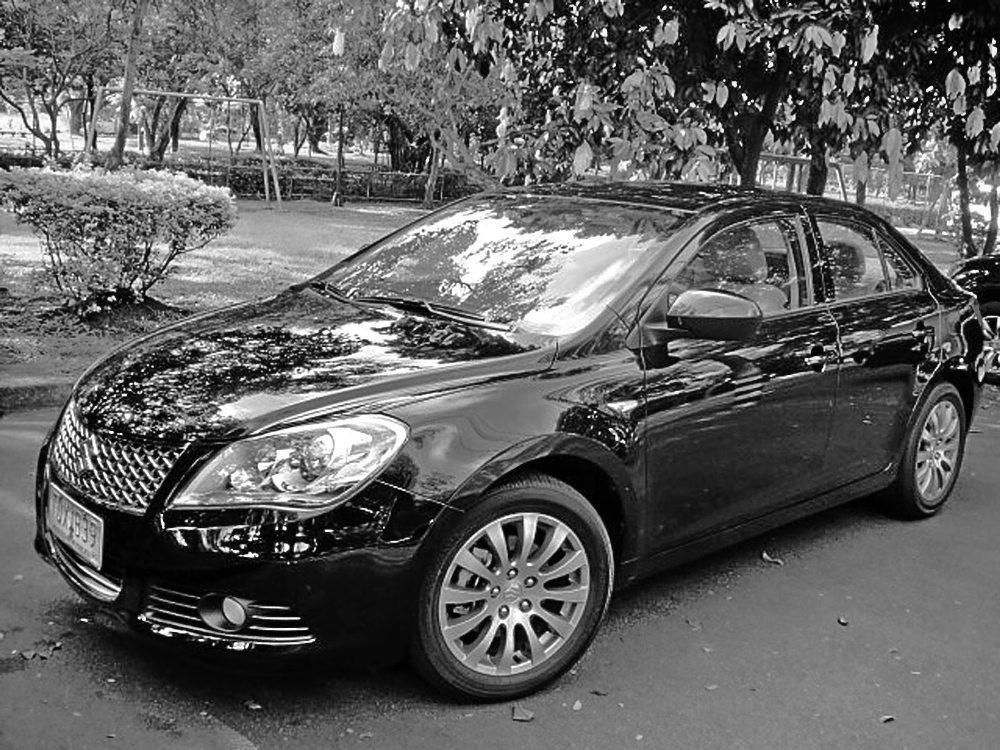car: (27, 174, 989, 708)
